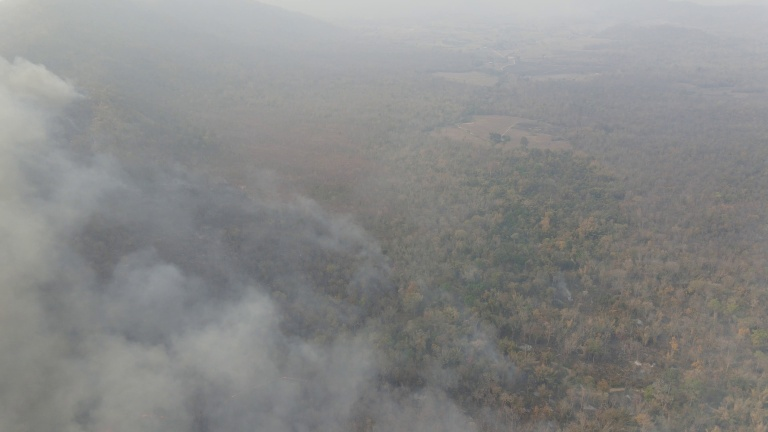fire: (130, 408, 170, 430)
smoke: (2, 199, 292, 431)
